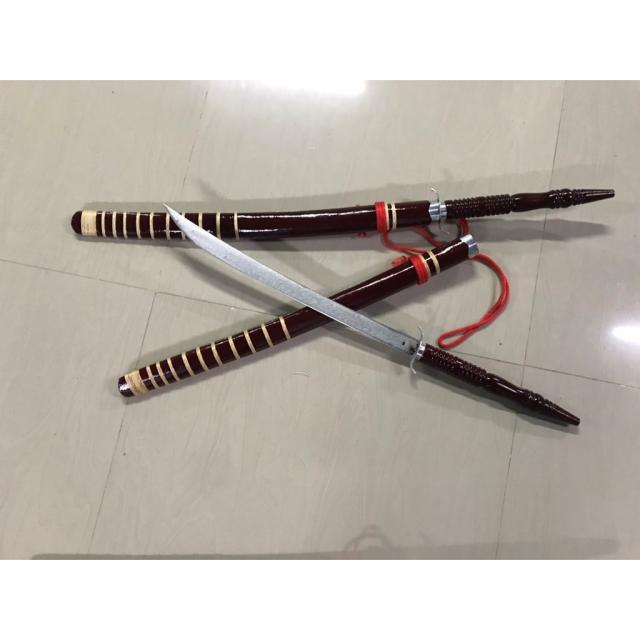long sword: (156, 198, 584, 434)
